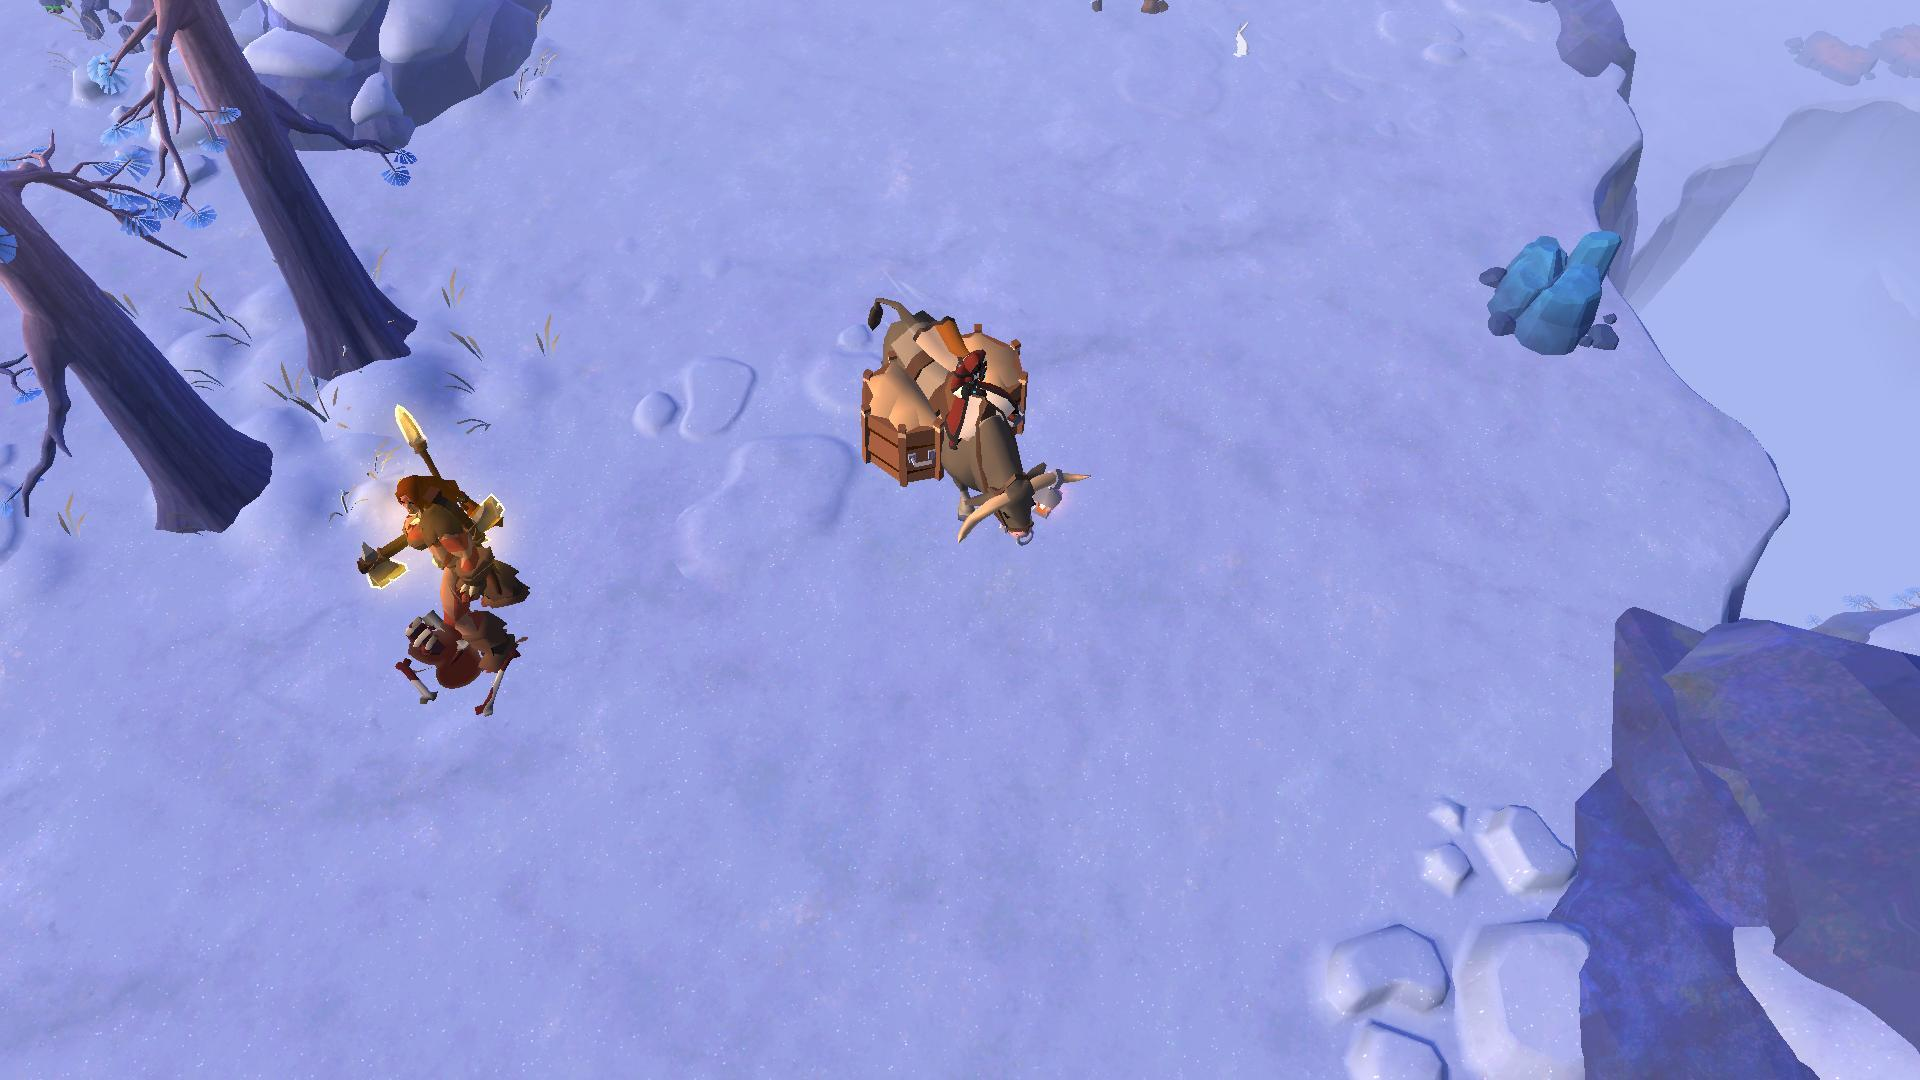enemy_factionKeeper: (363, 452, 521, 629)
rock_t4: (1466, 228, 1622, 368)
